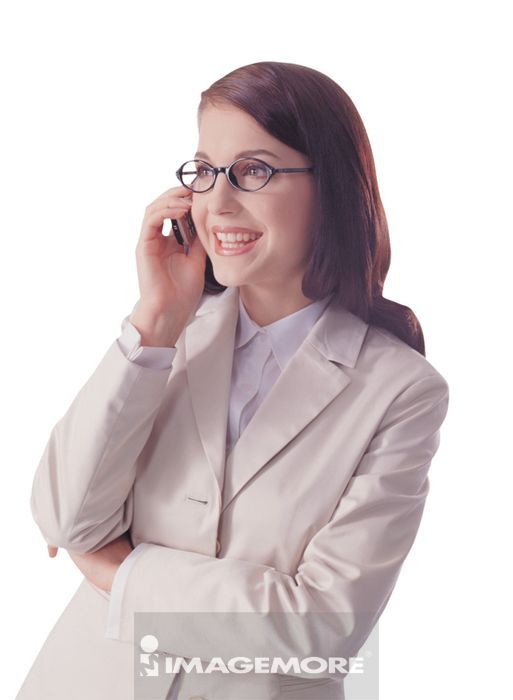talk: (134, 148, 279, 351)
